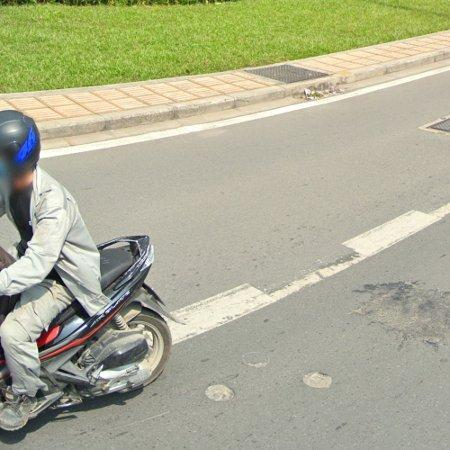motorcycles: (30, 236, 172, 419)
